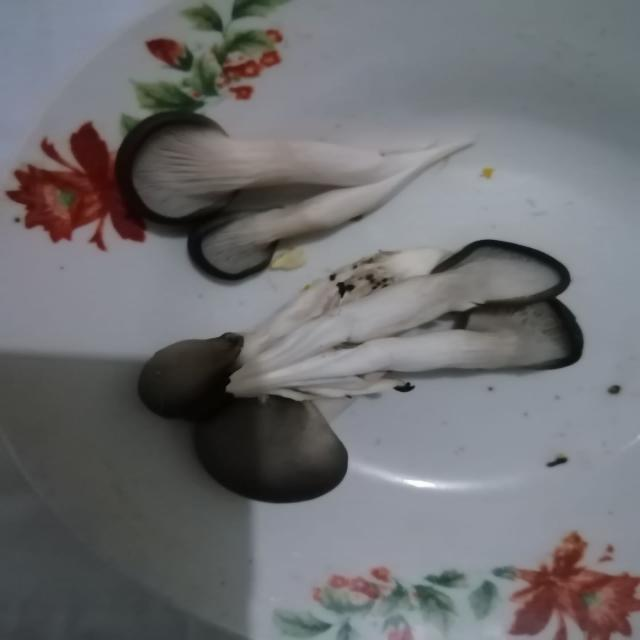Pleurotus ostreatus: (138, 239, 582, 506), (117, 110, 471, 285)
